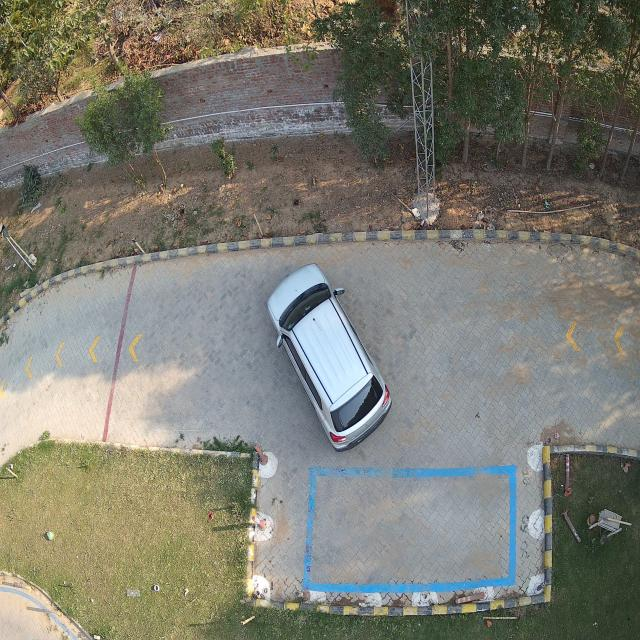car: (266, 266, 391, 451)
